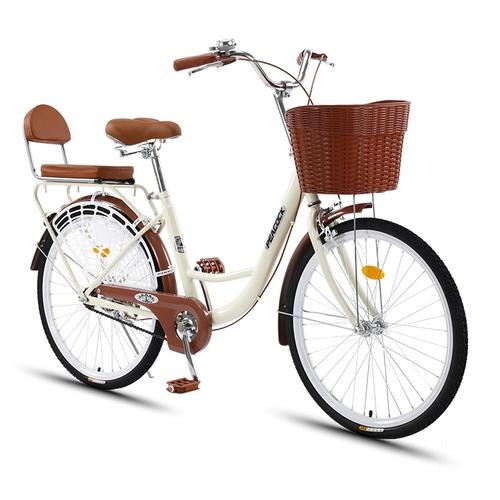单车: (20, 50, 498, 446)
